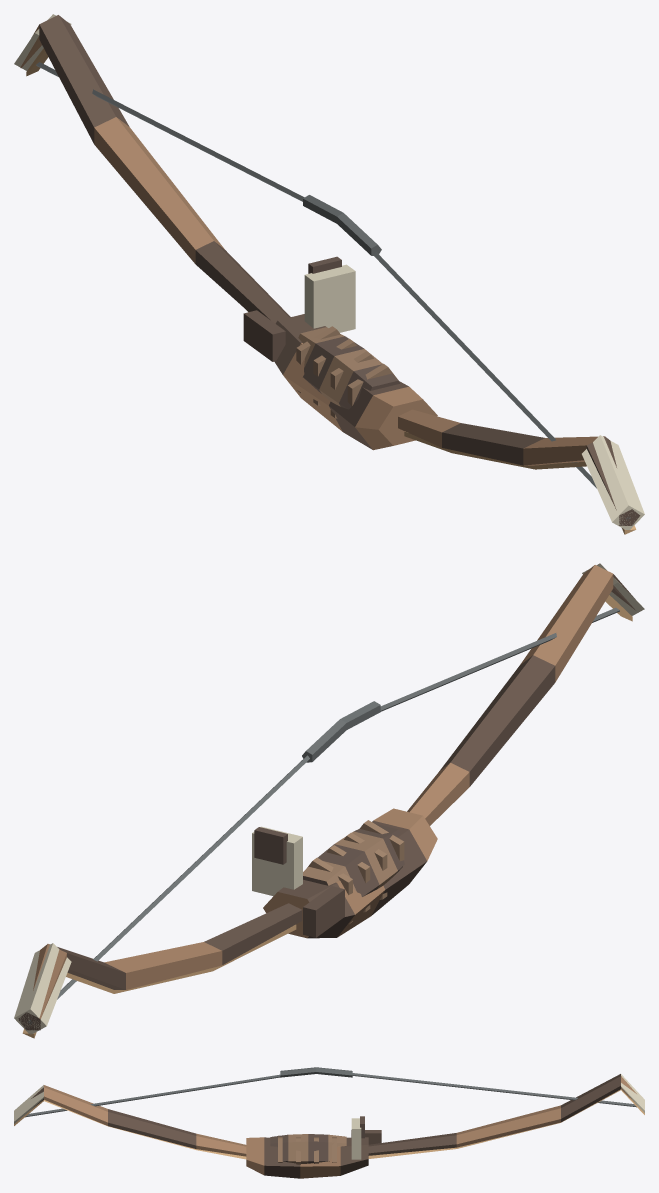
File: la-recurve-v27.glb
3 views of the same model, one above another, from view 1: azimuth 30°, elevation 25°; view 2: azimuth 150°, elevation 25°; view 3: azimuth 270°, elevation 25° (orthographic). The views are drawn at different scales.
Parts seen in each view (by area): view 1: V27_UPPER_LIMB, V27_CARVED_RISER, V27_LOWER_LIMB, V27_LEATHER_GRIP, V27_ARROW_SHELF, V27_BOWSTRING, V27_LOWER_TIP, V27_SIGHT_PLATE, V27_STRING_SERVING, V27_LOWER_LAMINATE; view 2: V27_LOWER_LIMB, V27_UPPER_LIMB, V27_CARVED_RISER, V27_LEATHER_GRIP, V27_BOWSTRING, V27_UPPER_TIP, V27_ARROW_SHELF, V27_SIGHT_PLATE, V27_STRING_SERVING, V27_SHELF_PAD, V27_UPPER_LAMINATE; view 3: V27_UPPER_LIMB, V27_LOWER_LIMB, V27_CARVED_RISER, V27_BOWSTRING, V27_LEATHER_GRIP, V27_UPPER_LAMINATE, V27_STRING_SERVING, V27_ARROW_SHELF, V27_LOWER_LAMINATE, V27_LOWER_TIP, V27_UPPER_TIP, V27_SIGHT_PLATE.
Part boxes in pixels (x1=…): V27_UPPER_LIMB: x1=20, y1=15, x2=290, y2=323; V27_CARVED_RISER: x1=274, y1=314, x2=437, y2=450; V27_LOWER_LIMB: x1=398, y1=409, x2=640, y2=525; V27_LEATHER_GRIP: x1=298, y1=327, x2=400, y2=409; V27_ARROW_SHELF: x1=304, y1=264, x2=355, y2=332; V27_BOWSTRING: x1=36, y1=62, x2=630, y2=520; V27_LOWER_TIP: x1=582, y1=435, x2=644, y2=529; V27_SIGHT_PLATE: x1=243, y1=310, x2=285, y2=361; V27_STRING_SERVING: x1=303, y1=195, x2=381, y2=255; V27_LOWER_LAMINATE: x1=404, y1=431, x2=636, y2=534; V27_LOWER_LIMB: x1=407, y1=565, x2=635, y2=825; V27_UPPER_LIMB: x1=18, y1=903, x2=302, y2=1030; V27_CARVED_RISER: x1=263, y1=808, x2=437, y2=938; V27_LEATHER_GRIP: x1=303, y1=823, x2=404, y2=896; V27_BOWSTRING: x1=28, y1=607, x2=619, y2=1024; V27_UPPER_TIP: x1=14, y1=943, x2=71, y2=1034; V27_ARROW_SHELF: x1=252, y1=826, x2=302, y2=896; V27_SIGHT_PLATE: x1=303, y1=886, x2=344, y2=937; V27_STRING_SERVING: x1=302, y1=701, x2=380, y2=762; V27_SHELF_PAD: x1=254, y1=827, x2=287, y2=864; V27_UPPER_LAMINATE: x1=22, y1=924, x2=296, y2=1038; V27_UPPER_LIMB: x1=368, y1=1074, x2=636, y2=1155; V27_LOWER_LIMB: x1=31, y1=1085, x2=246, y2=1156; V27_CARVED_RISER: x1=246, y1=1137, x2=368, y2=1178; V27_BOWSTRING: x1=25, y1=1073, x2=636, y2=1117; V27_LEATHER_GRIP: x1=270, y1=1134, x2=346, y2=1163; V27_UPPER_LAMINATE: x1=368, y1=1089, x2=644, y2=1158; V27_STRING_SERVING: x1=280, y1=1067, x2=352, y2=1077; V27_ARROW_SHELF: x1=351, y1=1118, x2=361, y2=1159; V27_LOWER_LAMINATE: x1=14, y1=1100, x2=246, y2=1159; V27_LOWER_TIP: x1=14, y1=1085, x2=43, y2=1123; V27_UPPER_TIP: x1=621, y1=1074, x2=644, y2=1112; V27_SIGHT_PLATE: x1=351, y1=1130, x2=381, y2=1144.
Size of the model in its own units: 0.127 by 0.2969 by 1.58.
